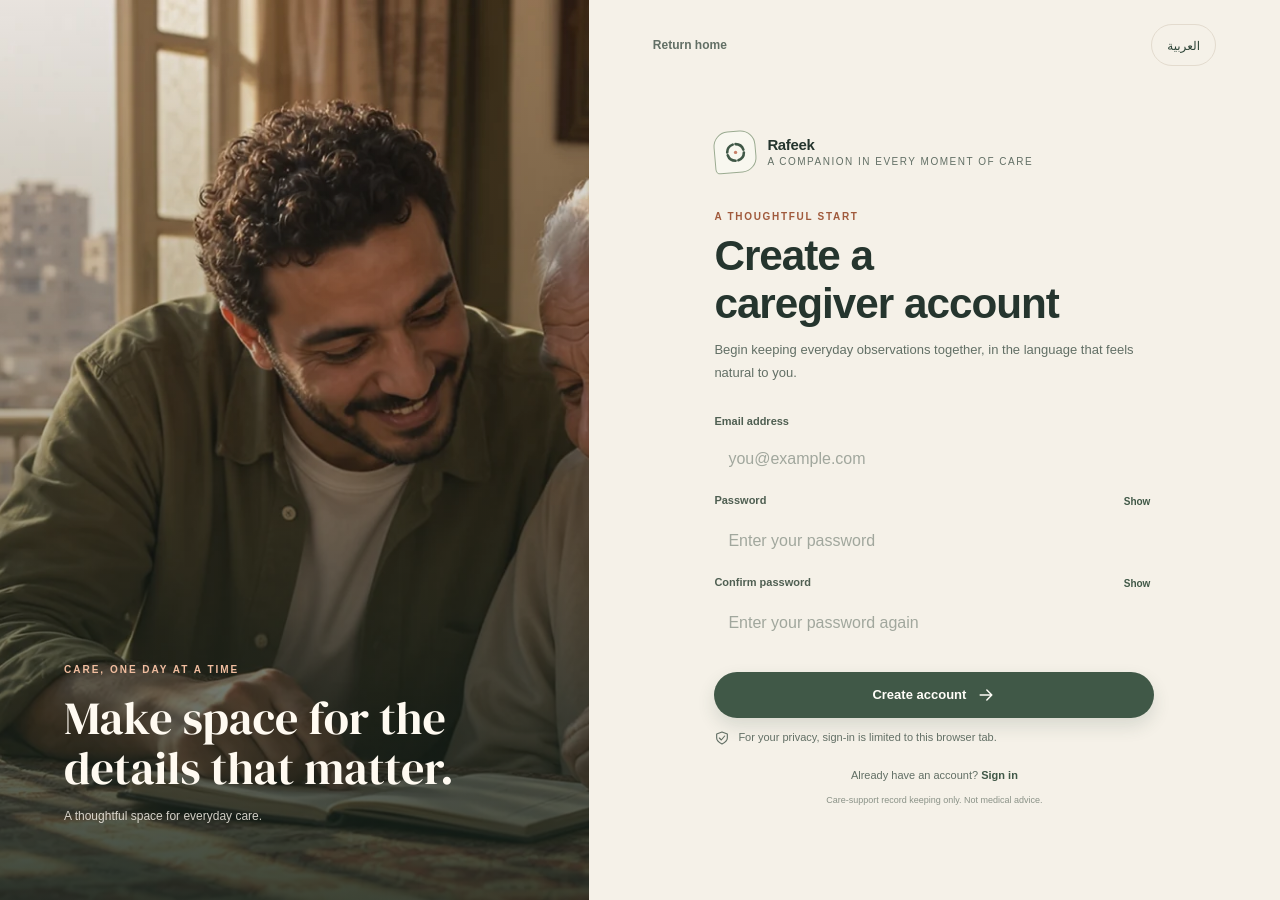
Test case: caregiver signup › shows the duplicate-email message for a 422 with DUPLICATE_EMAIL
Type "taken@example.com" into the field labelled "Email address" at {"x": 934, "y": 459}, box [714,434,1154,484]
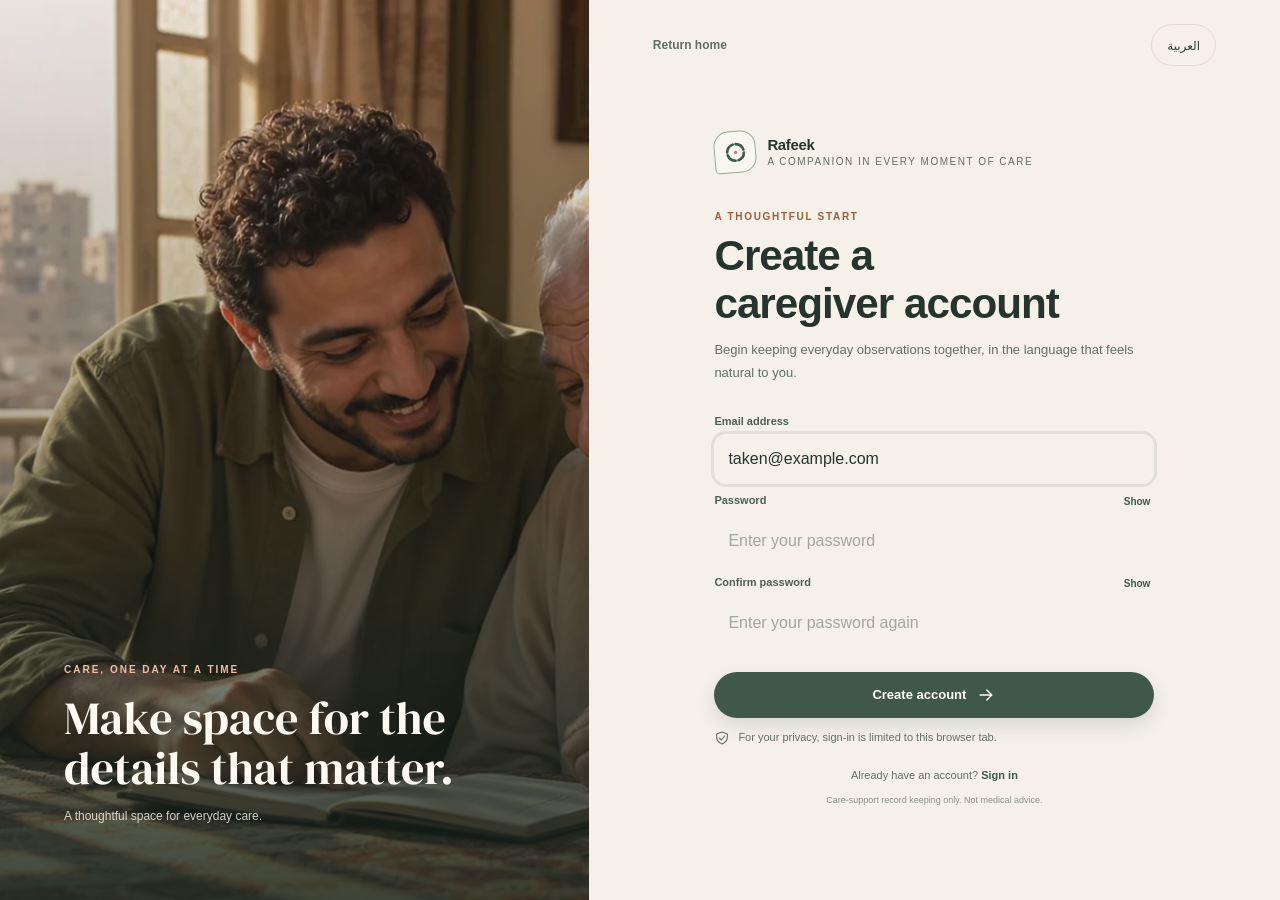
Type "a strong passphrase" into the password field labelled "Password" at {"x": 934, "y": 541}, box [714,516,1154,566]
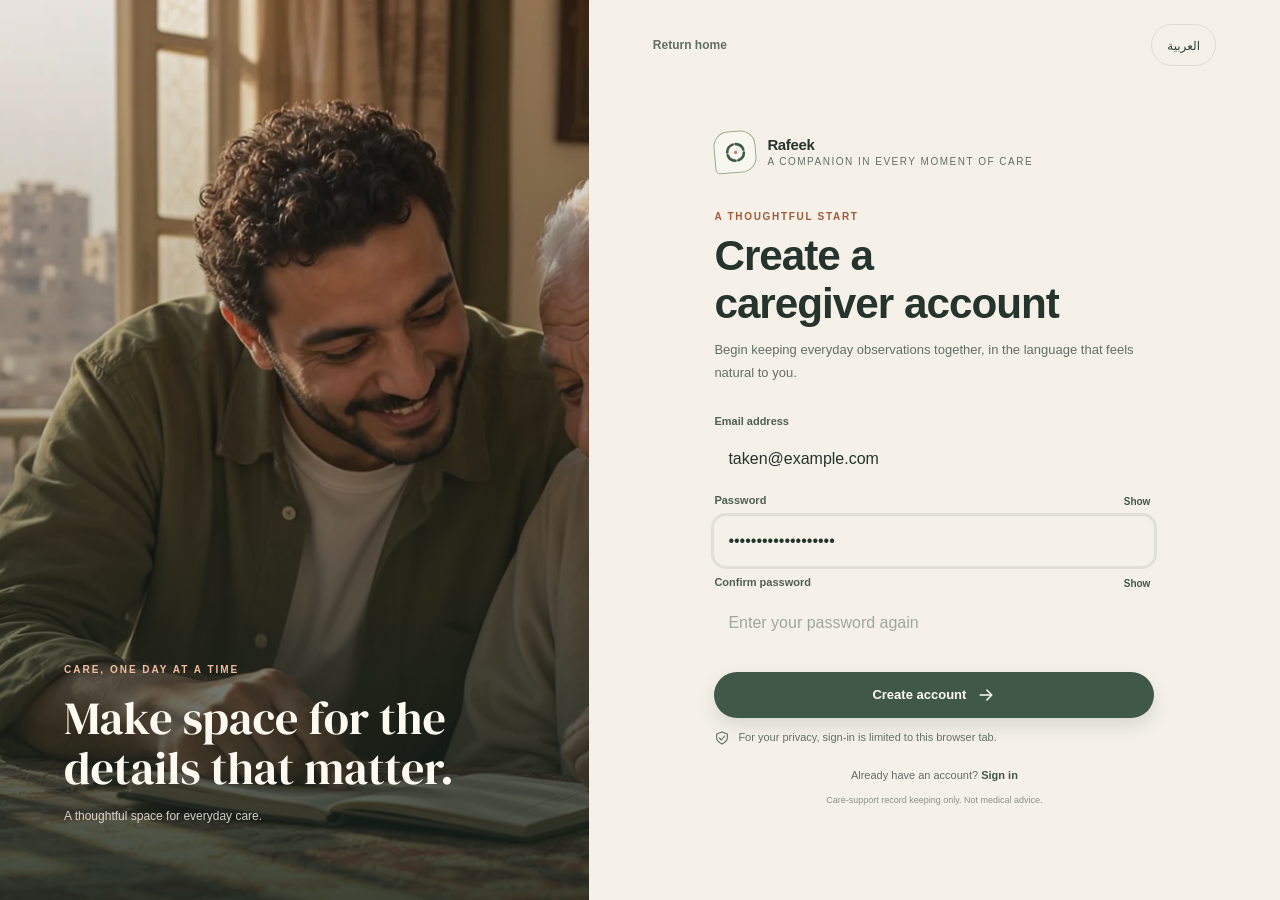
Type "a strong passphrase" into the password field labelled "Confirm password" at {"x": 934, "y": 623}, box [714,598,1154,648]
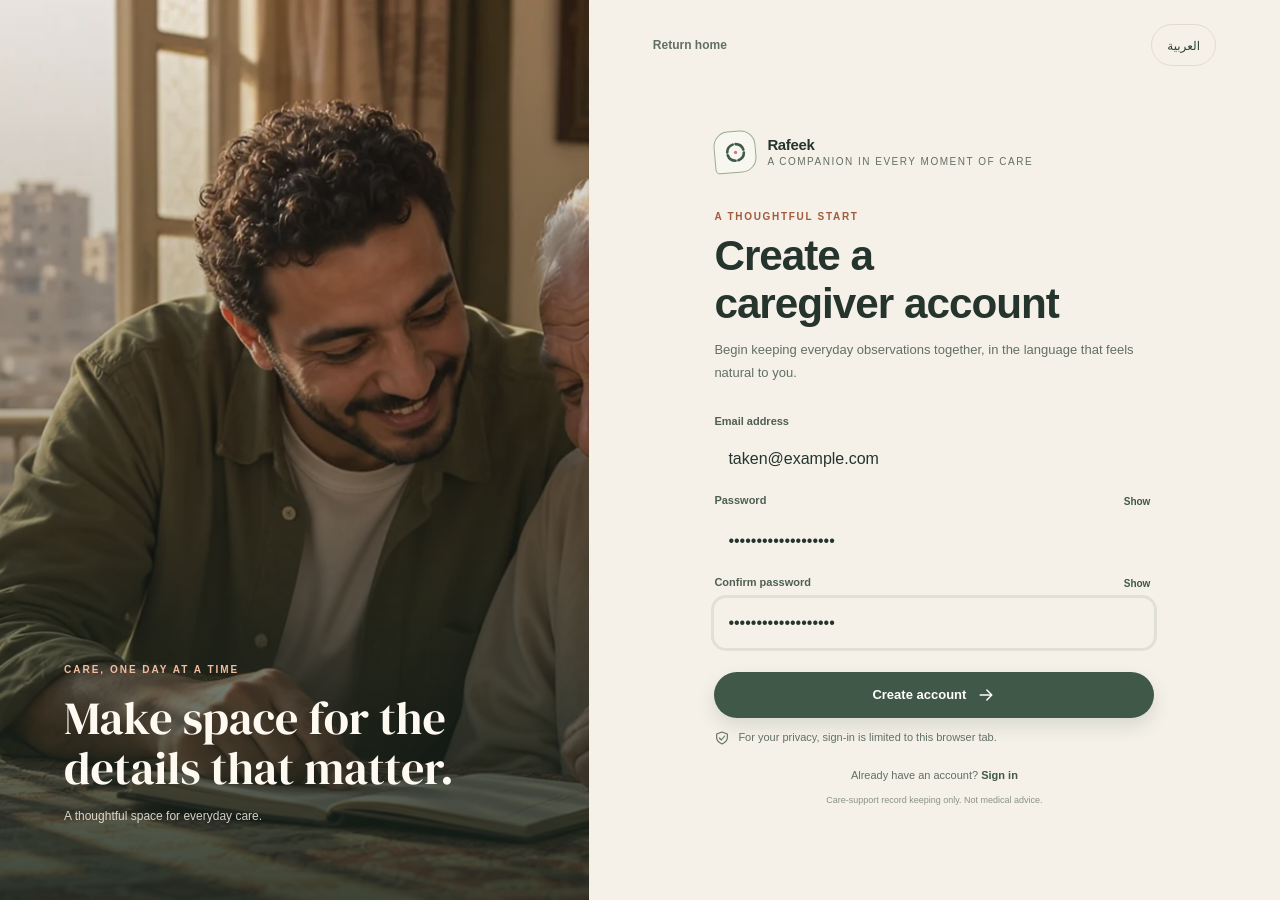
Click the button "Create account" at {"x": 934, "y": 695}, box [714,672,1154,718]
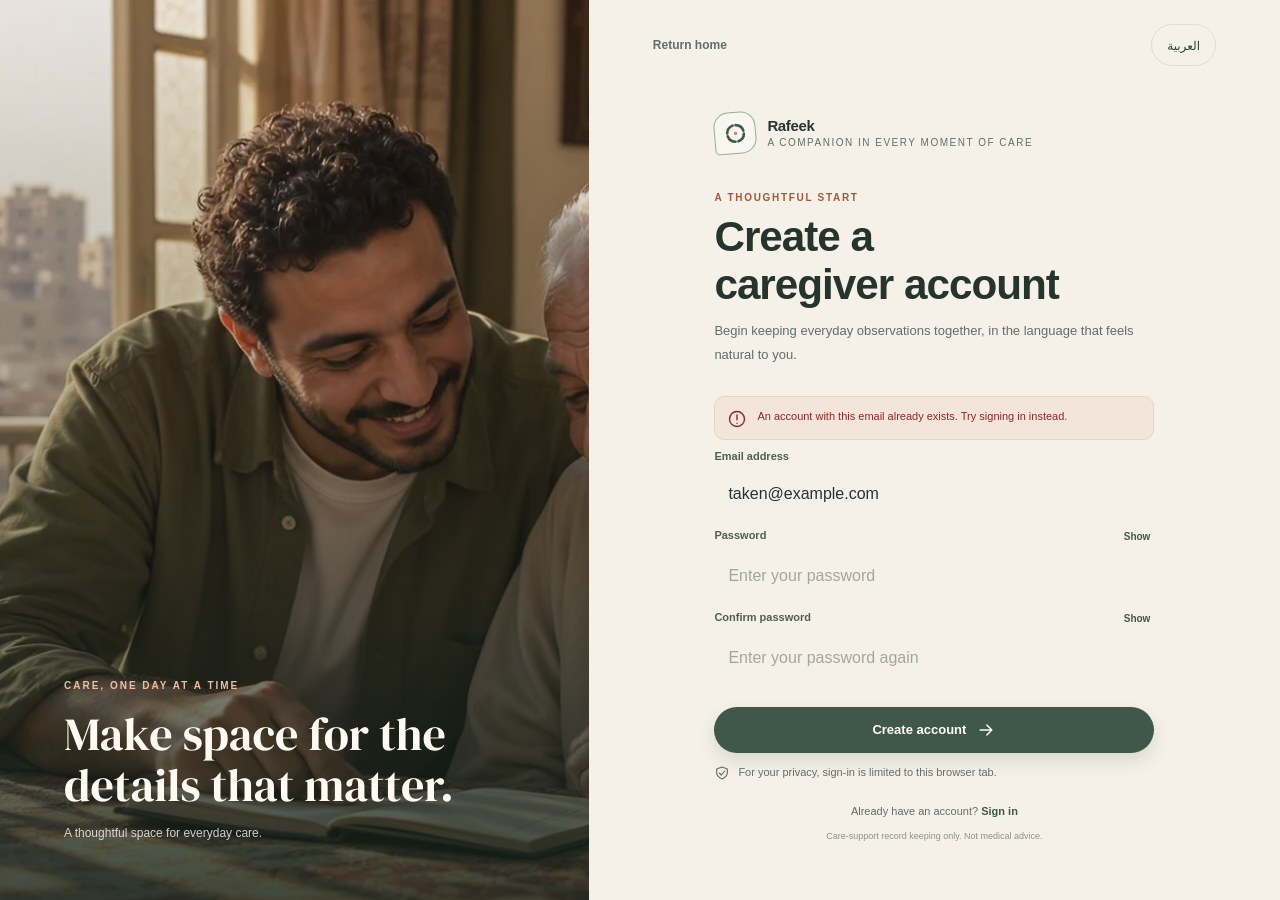
Check: the message does not show "Check your email and password", box [714,396,1154,440]
Check: the message reads "An account with this email already exists. Try signing in instead.", box [757,410,1067,422]
